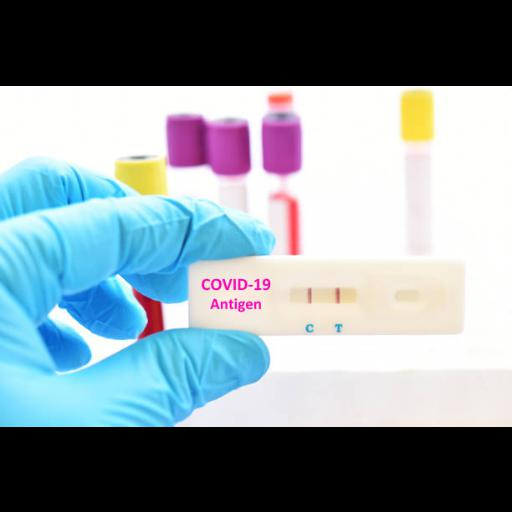Pos: (190, 257, 466, 331)
